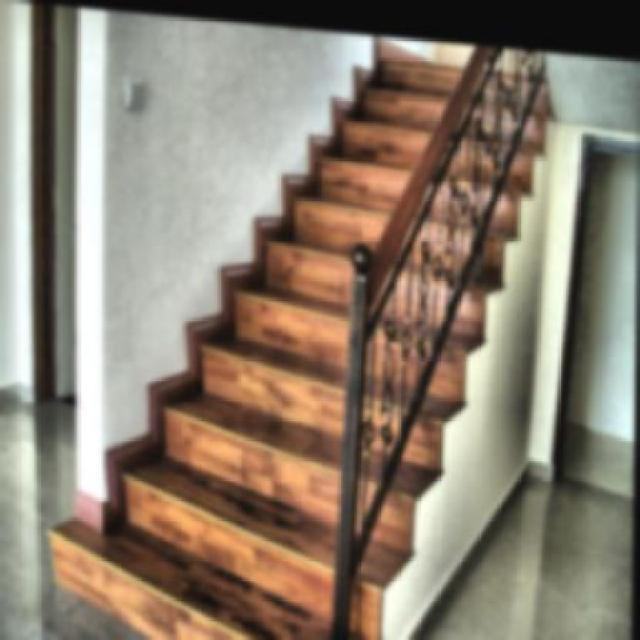stair: (40, 16, 505, 638)
